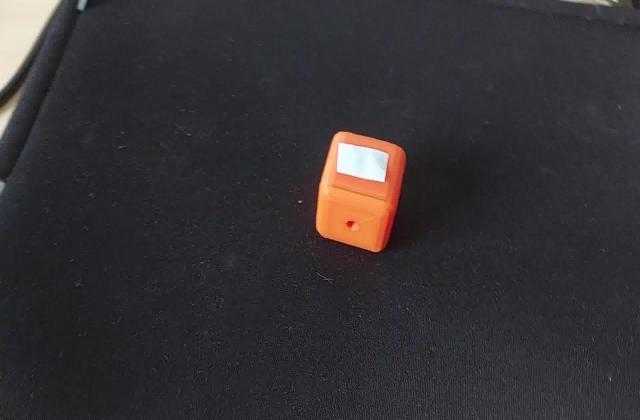sticker: (312, 127, 409, 256)
white: (333, 144, 394, 183)
